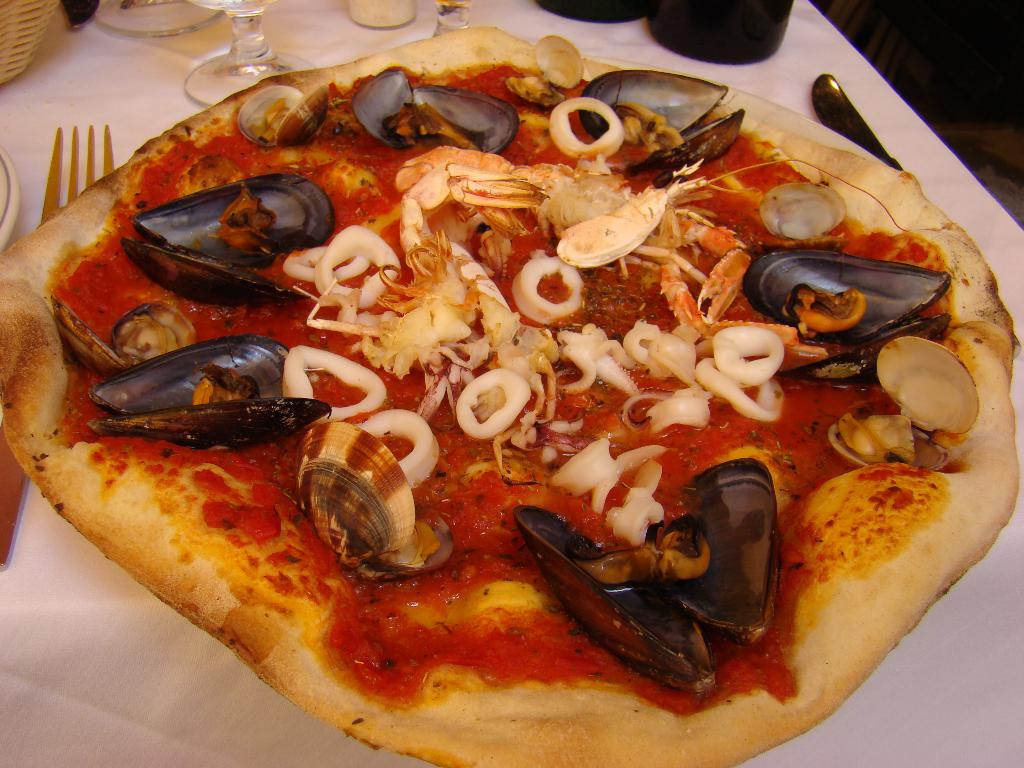Pizza: (0, 29, 992, 768)
